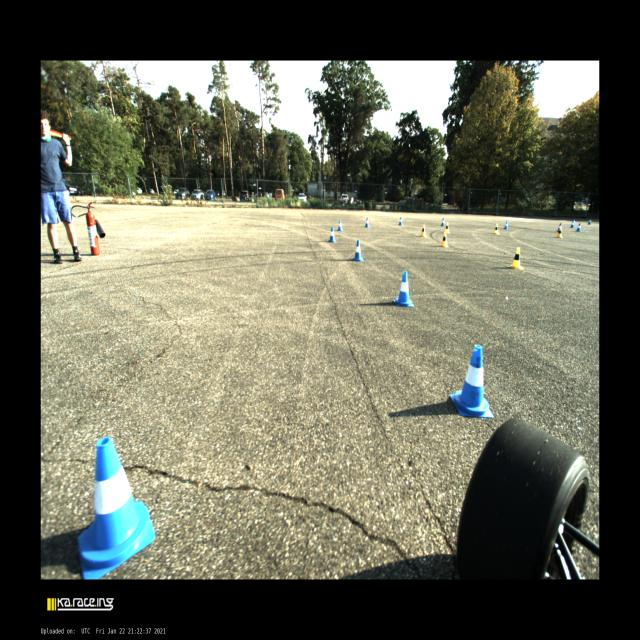blue_cone: (77, 437, 155, 580), (450, 345, 493, 417), (394, 271, 414, 307), (352, 240, 364, 262), (328, 227, 336, 243), (337, 220, 343, 231), (398, 217, 403, 226), (365, 218, 369, 228), (576, 223, 581, 231), (557, 223, 562, 231), (441, 218, 445, 226), (504, 221, 508, 229), (570, 221, 574, 227)
yellow_cone: (508, 247, 523, 269), (441, 232, 448, 248), (420, 224, 426, 237), (556, 227, 562, 238), (494, 224, 499, 234), (446, 222, 449, 234)
